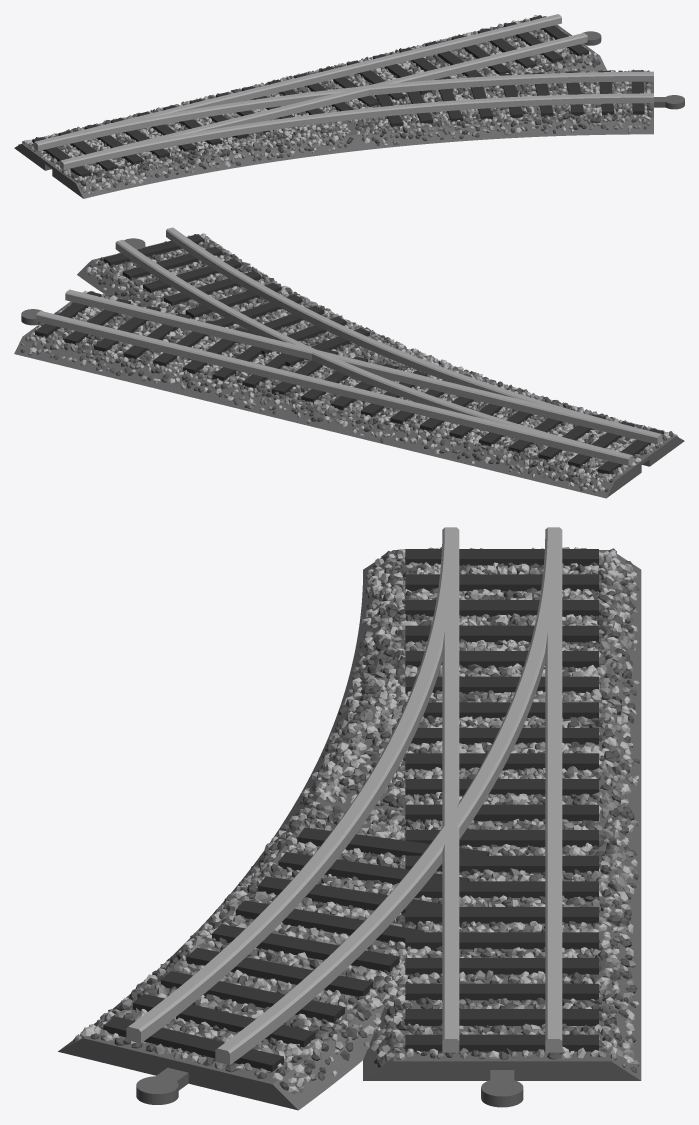
The model's file is Rail_Junction_Right30.obj.
3 views of the same model, one above another, from view 1: azimuth 30°, elevation 25°; view 2: azimuth 150°, elevation 25°; view 3: azimuth 270°, elevation 25° (orthographic). The views are drawn at different scales.
Parts seen in each view (by area): view 1: Rail_Junction_Right30; view 2: Rail_Junction_Right30; view 3: Rail_Junction_Right30.
Boxes of the visible parts, bbox=[...] form: Rail_Junction_Right30: bbox=[14, 14, 684, 198]; Rail_Junction_Right30: bbox=[14, 227, 684, 498]; Rail_Junction_Right30: bbox=[58, 527, 641, 1110].
Bounding box in the file's own units: 2.12 × 0.0805 × 0.9651.
1 material, 1 textured.
